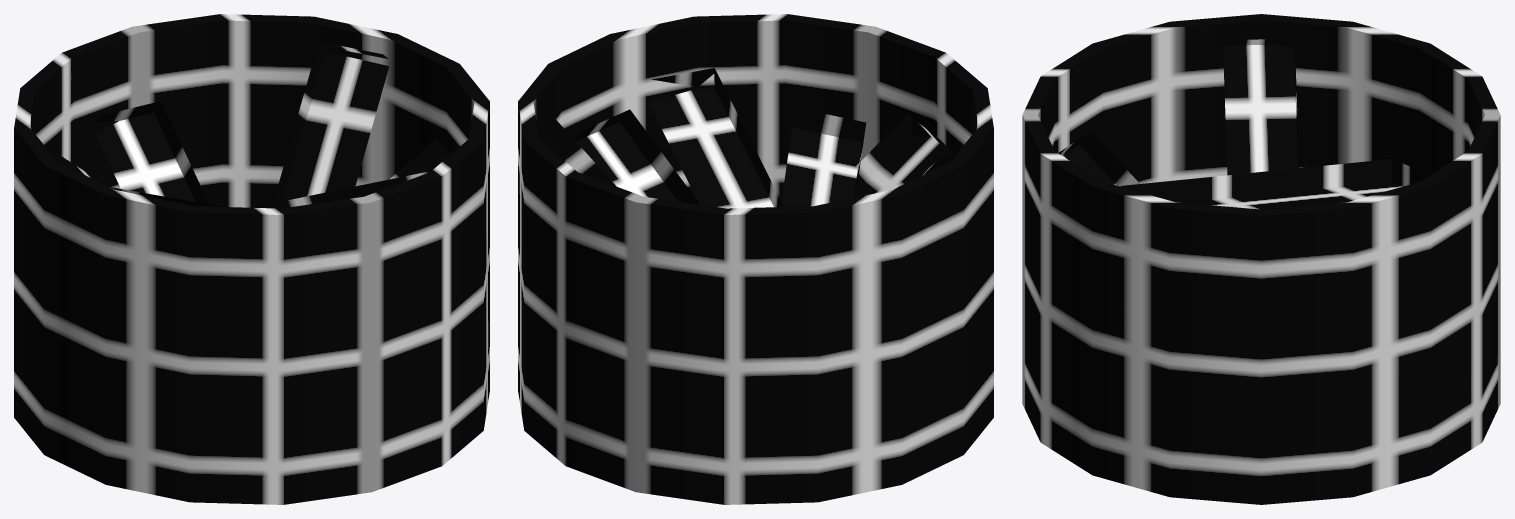
File: campfire.fbx
3 renders of one model, left to right at view 1: azimuth 30°, elevation 25°; view 2: azimuth 150°, elevation 25°; view 3: azimuth 270°, elevation 25°, orthographic.
Parts seen in each view (by area): view 1: CampfireRim, Plank_01, Plank_02, Plank_06, Plank_05; view 2: CampfireRim, Plank_06, Plank_07, Plank_05, Plank_03, Plank_01; view 3: CampfireRim, Plank_04, Plank_07, Plank_03.
Boxes of the visible parts, x1,y1,x2,y2 form: CampfireRim: (14,14,489,504); Plank_01: (273,41,388,202); Plank_02: (95,101,208,204); Plank_06: (253,171,430,208); Plank_05: (389,139,450,179); CampfireRim: (518,14,993,504); Plank_06: (648,68,783,208); Plank_07: (780,108,866,206); Plank_05: (574,109,699,204); Plank_03: (855,114,952,197); Plank_01: (536,111,616,186); CampfireRim: (1022,14,1500,504); Plank_04: (1223,38,1299,193); Plank_07: (1119,159,1423,209); Plank_03: (1058,131,1139,185).
Size of what is drawn, in the model's own units: 60 by 60 by 40.
